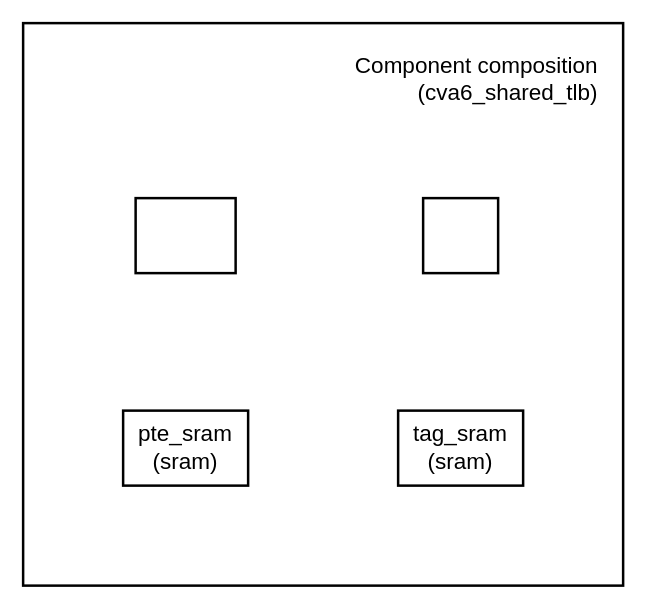
Image size: 645x608. Some labels were removed from this diagram. The box of each missing label's shape, as (x1, y1, x2, y2) in pixels:
i_lfsr (lfsr): (134, 196, 236, 274)
i_lzc (lzc): (421, 196, 499, 274)
